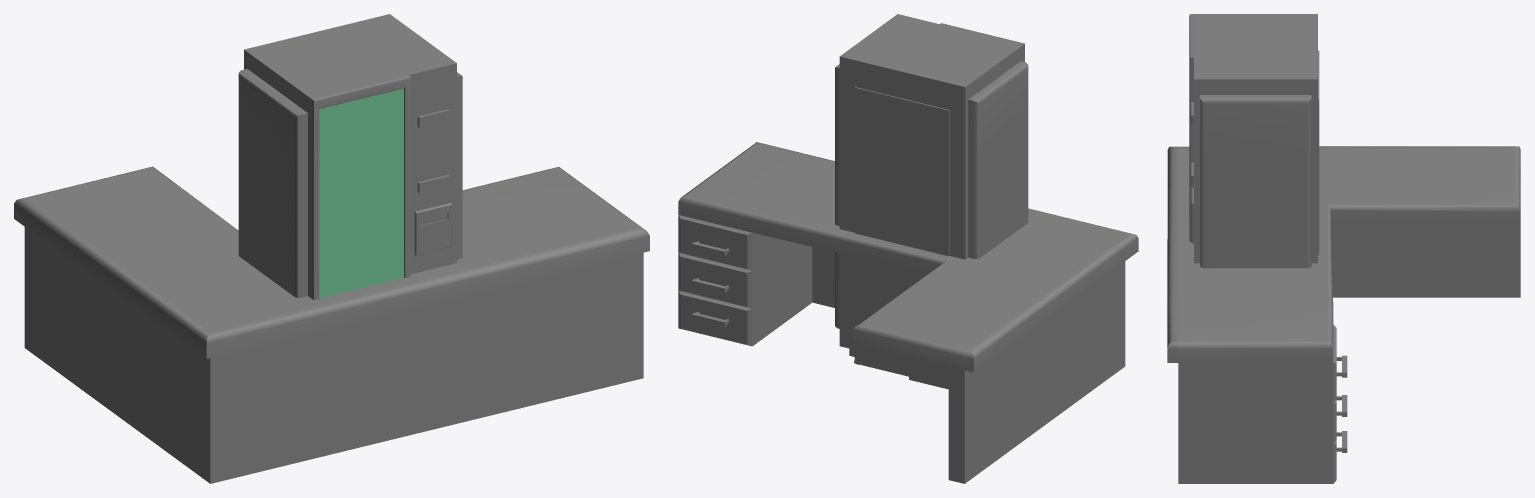
Rendered from Office_Models.fbx.
3 renders of one model, left to right at view 1: azimuth 30°, elevation 25°; view 2: azimuth 150°, elevation 25°; view 3: azimuth 270°, elevation 25°, orthographic. The views are drawn at different scales.
Visible parts, largest first — view 1: Desk, Vending_Machine, VendingGlass; view 2: Desk, Vending_Machine, File_Cabnet; view 3: Desk, Vending_Machine, File_Cabnet.
Boxes of the visible parts, box(x1,y1,x2,y2) form: Desk: box(14, 166, 649, 483); Vending_Machine: box(238, 14, 462, 299); VendingGlass: box(319, 88, 403, 297); Desk: box(678, 142, 1138, 483); Vending_Machine: box(835, 14, 1028, 356); File_Cabnet: box(854, 87, 949, 386); Desk: box(1167, 146, 1520, 483); Vending_Machine: box(1189, 14, 1317, 268); File_Cabnet: box(1318, 50, 1319, 255).
Size of the model in its own units: 3.05 by 2.53 by 2.28.
